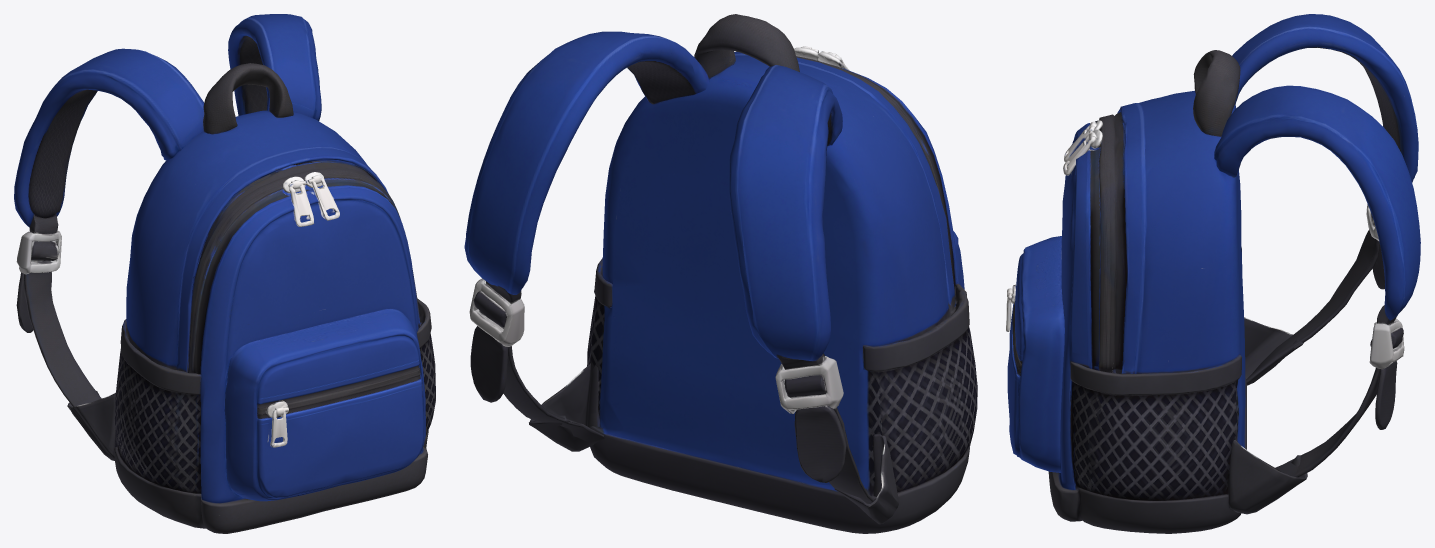
Rendered from Meshy_AI_Blue_Backpack_20261124_texture.fbx.
The picture shows the model from 3 angles, left to right: view 1: azimuth 30°, elevation 25°; view 2: azimuth 150°, elevation 25°; view 3: azimuth 270°, elevation 25°; orthographic projection. The views are drawn at different scales.
Visible parts, largest first — view 1: Mesh_0; view 2: Mesh_0; view 3: Mesh_0.
Part boxes in pixels (x1,y1,x2,y2): Mesh_0: (14, 14, 435, 533); Mesh_0: (464, 14, 977, 533); Mesh_0: (1006, 14, 1420, 533).
Bounding box in the file's own units: 77.15 × 95.26 × 85.79.
1 material, 1 textured.
